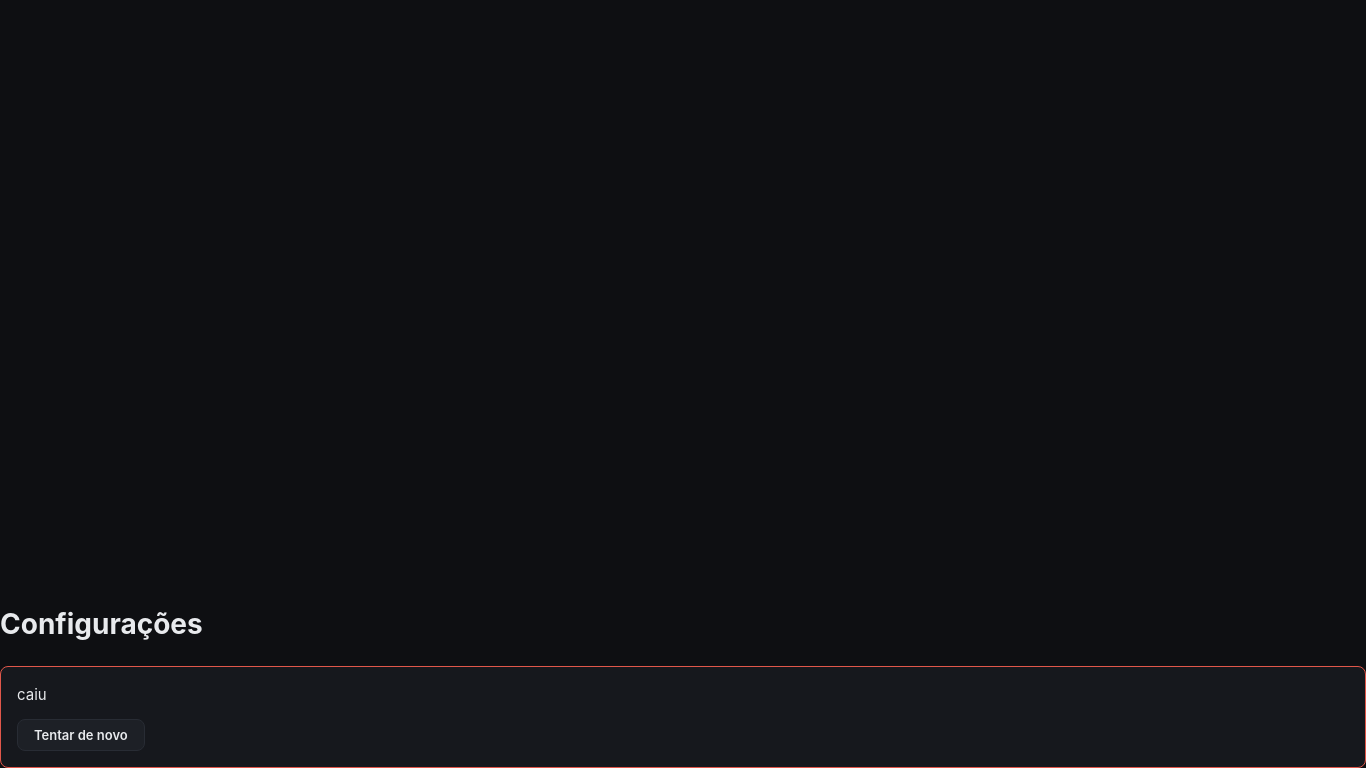
Test case: PaginaConfig › erro ao carregar mostra alerta e tentar de novo
The image size is (1366, 768).
(page scrolled)
Check: the message shows "caiu", box [17,685,47,704]
Step 1. Click the button "Tentar de novo" → (81, 735), box [17,719,145,751]
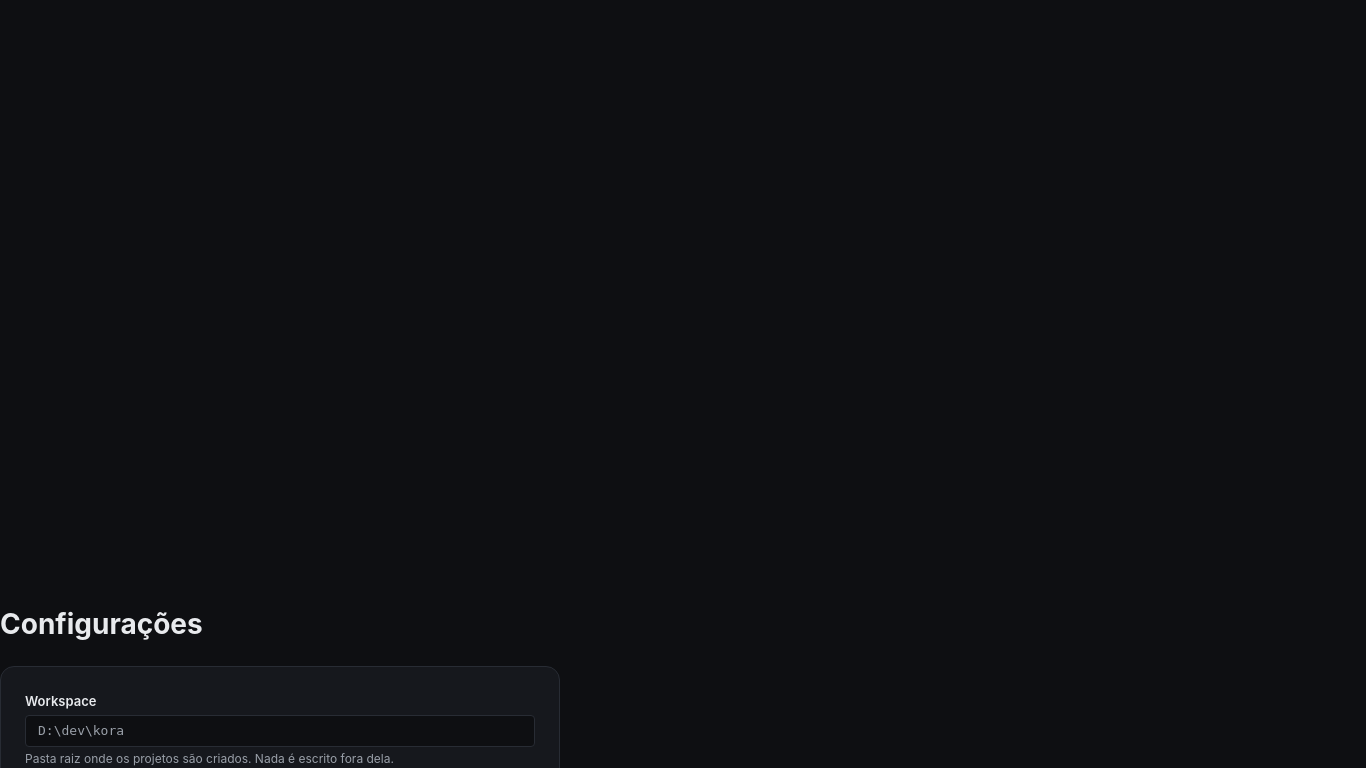
Check: the field labelled "Workspace" is shown, box [25,715,535,747]
